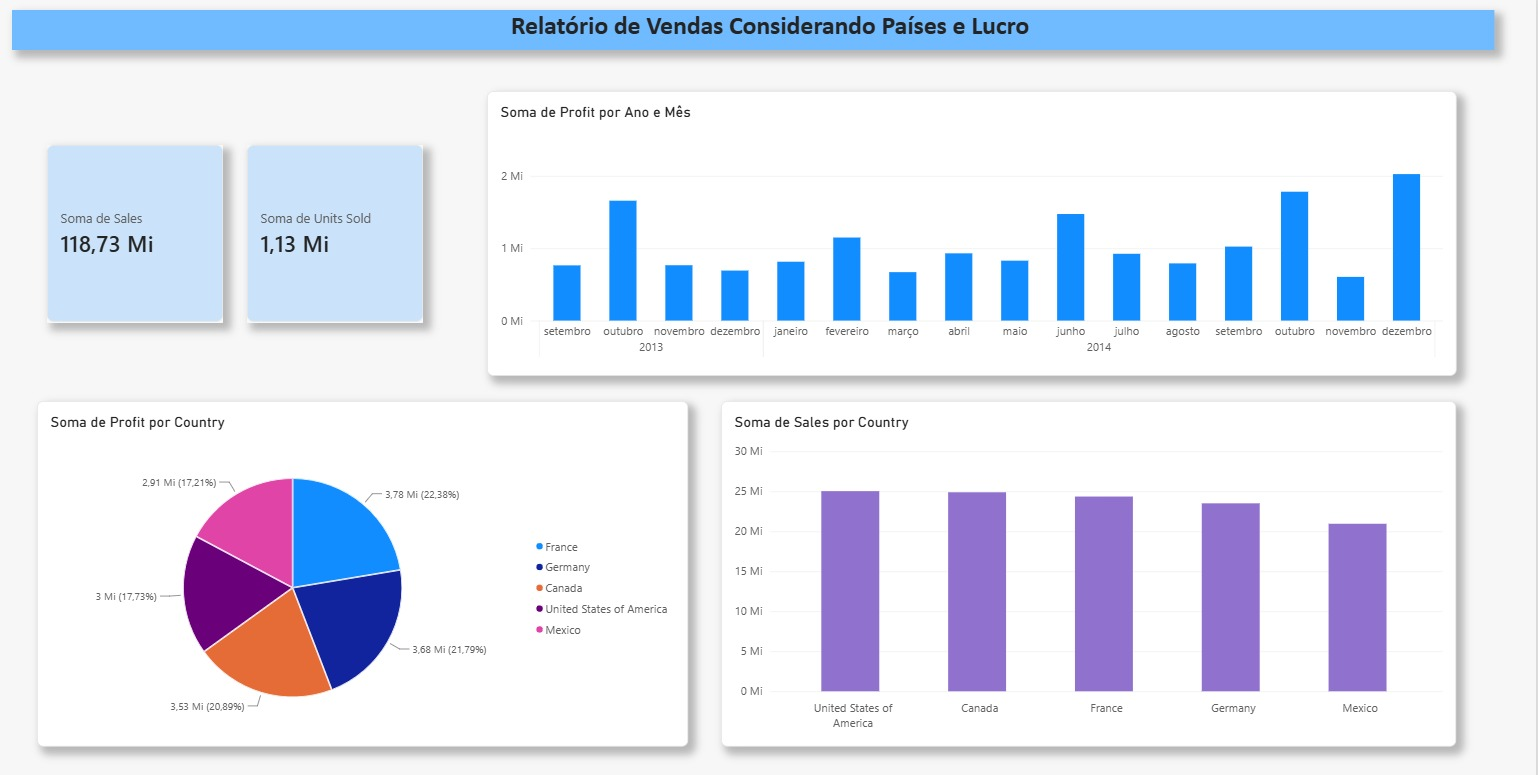

This screenshot's page, from the dashboard's own definition file:
{"tool":"powerbi","page":{"name":"Página 2","canvas":[1920,1080],"ordinal":1},"visuals":[{"type":"textbox","box":[14.6,14.6,1852.9,49.6],"z":0},{"type":"cardVisual","fields":{"Data":["Sum(financials. Sales)"]},"box":[58.4,183.8,220.3,221.8],"z":1000},{"type":"cardVisual","fields":{"Data":["Sum(financials.Units Sold)"]},"box":[309.3,183.8,220.3,221.8],"z":2000},{"type":"pieChart","fields":{"Category":["financials.Country"],"Y":["Sum(financials.Profit)"]},"box":[46.7,503.3,814.1,431.9],"z":3000},{"type":"clusteredColumnChart","fields":{"Category":["financials.Date.Variation.Hierarquia de datas.Ano","financials.Date.Variation.Hierarquia de datas.Mês"],"Y":["Sum(financials.Profit)"]},"box":[608.4,116.7,1212.4,356],"z":4000},{"type":"clusteredColumnChart","fields":{"Category":["financials.Country"],"Y":["Sum(financials. Sales)"]},"box":[901.6,503.3,919.1,431.9],"z":5000}]}

Visuals, with their boxes on the page's 1920x1080 design canvas (x1, y1, x2, y2). These are canvas units, not pixel positions in the 1538x775 screenshot, which may show the page scaled, cropped or inside an application window:
textbox: x1=15, y1=15, x2=1868, y2=64
cardVisual - Sum(financials. Sales): x1=58, y1=184, x2=279, y2=406
cardVisual - Sum(financials.Units Sold): x1=309, y1=184, x2=530, y2=406
pieChart - financials.Country x Sum(financials.Profit): x1=47, y1=503, x2=861, y2=935
clusteredColumnChart - financials.Date.Variation.Hierarquia de datas.Ano x financials.Date.Variation.Hierarquia de datas.Mês: x1=608, y1=117, x2=1821, y2=473
clusteredColumnChart - financials.Country x Sum(financials. Sales): x1=902, y1=503, x2=1821, y2=935
